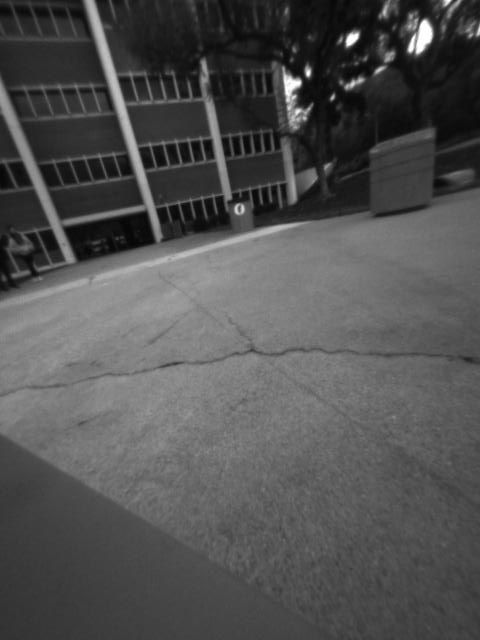trashcan: (369, 124, 435, 217), (226, 196, 259, 233)
